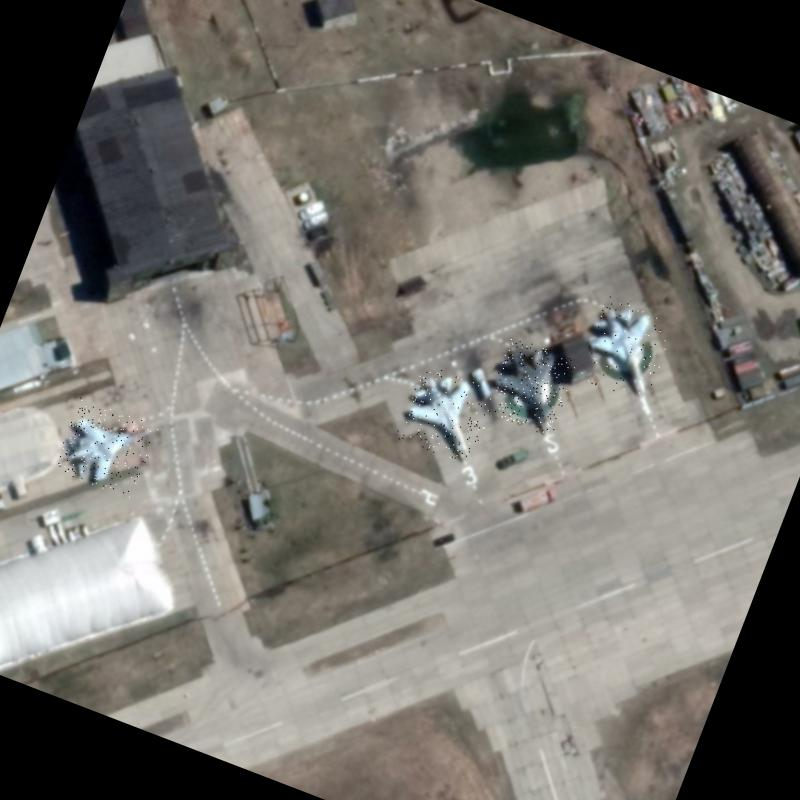A1: (52, 396, 162, 500), (574, 294, 677, 404), (394, 362, 498, 466), (482, 336, 580, 438)
